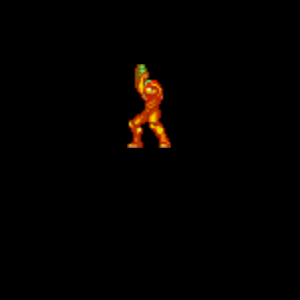Collectible: (127, 64, 171, 148)
